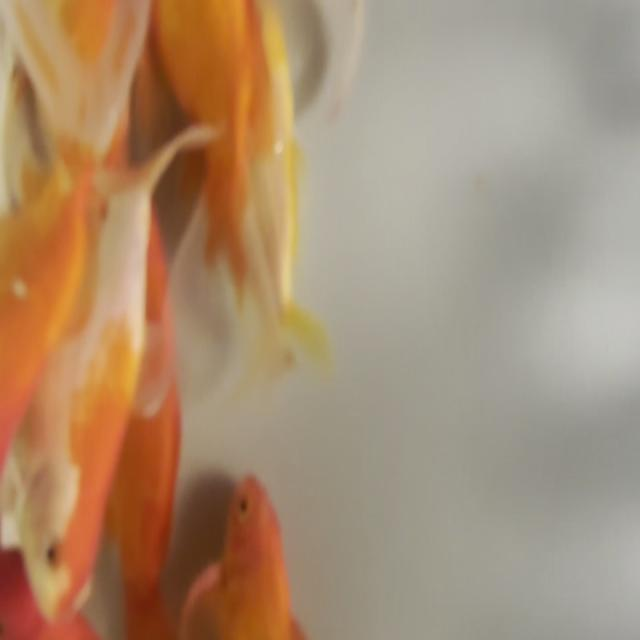fish: (146, 0, 332, 382), (101, 204, 192, 640), (0, 149, 101, 529), (0, 0, 148, 194), (169, 474, 326, 640), (0, 520, 191, 639)
